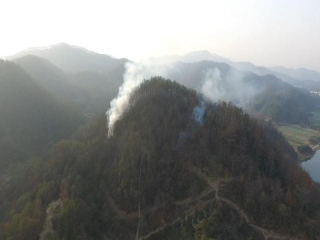smoke: (106, 58, 159, 142), (189, 89, 215, 133)
